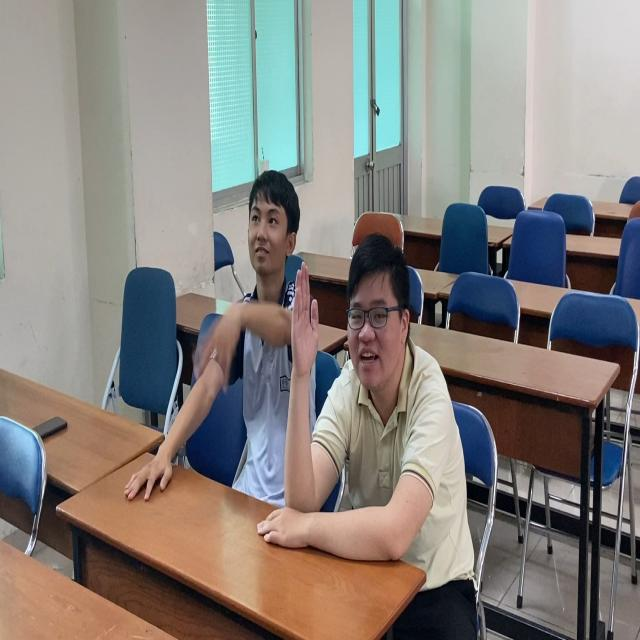raise_hand: (289, 225, 476, 577)
